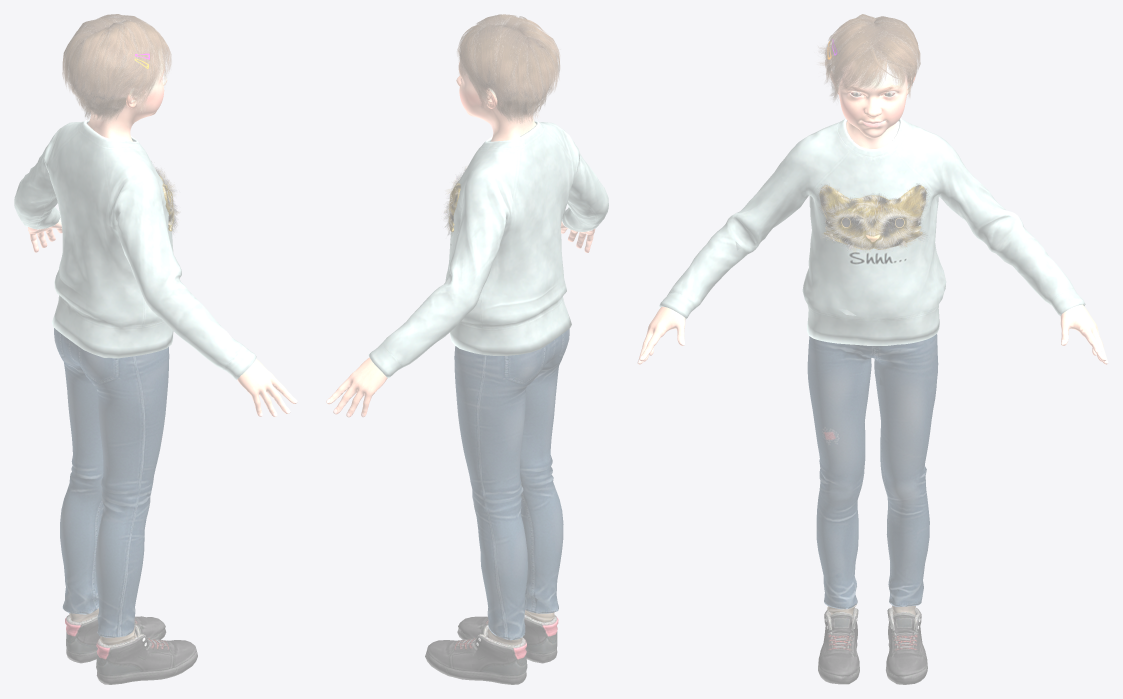
Rendered from Child.glb.
The picture shows the model from 3 angles, left to right: view 1: azimuth 30°, elevation 25°; view 2: azimuth 150°, elevation 25°; view 3: azimuth 270°, elevation 25°; orthographic projection.
Parts seen in each view (by area): view 1: Obj3d66_12248695_87_196; view 2: Obj3d66_12248695_87_196; view 3: Obj3d66_12248695_87_196.
Boxes of the visible parts, x1,y1,x2,y2 form: Obj3d66_12248695_87_196: [14, 14, 297, 684]; Obj3d66_12248695_87_196: [326, 14, 608, 684]; Obj3d66_12248695_87_196: [637, 14, 1108, 684].
Size of the model in its own units: 0.2446 by 1.33 by 0.8855.
5 materials, 5 textured.
